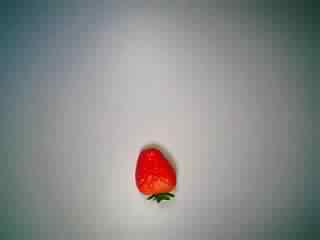strawberry: (126, 141, 186, 207)
